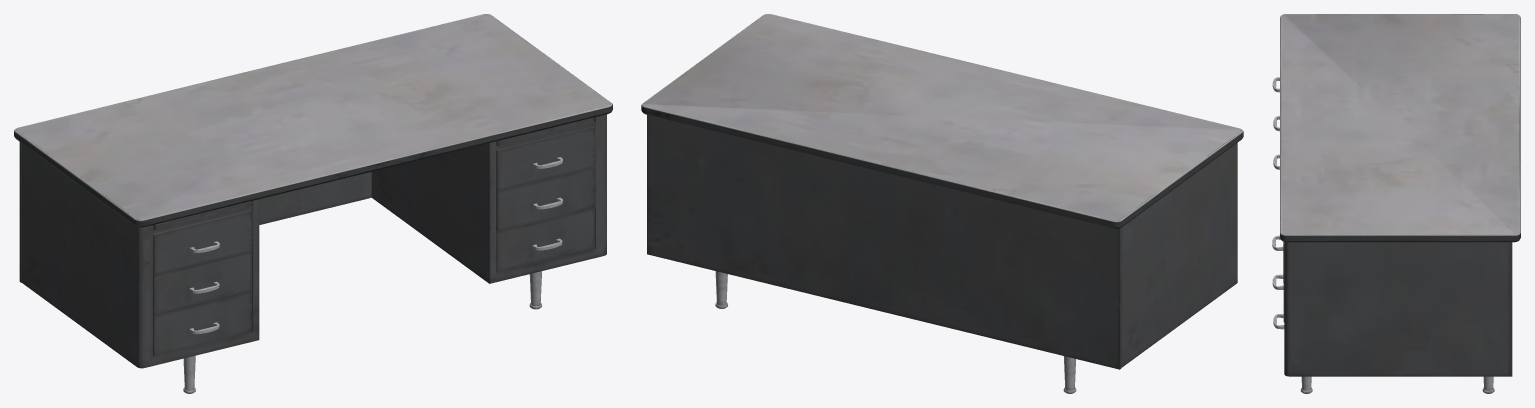
The model's file is office-desk-metal.glb.
3 renders of one model, left to right at view 1: azimuth 30°, elevation 25°; view 2: azimuth 150°, elevation 25°; view 3: azimuth 270°, elevation 25°, orthographic. The views are drawn at different scales.
Parts seen in each view (by area): view 1: metal_office_desk_drawer_06; view 2: metal_office_desk_drawer_06; view 3: metal_office_desk_drawer_06.
Part boxes in pixels (left/top/right/bottom): metal_office_desk_drawer_06: left=14, top=14, right=612, bottom=393; metal_office_desk_drawer_06: left=641, top=14, right=1243, bottom=393; metal_office_desk_drawer_06: left=1272, top=14, right=1520, bottom=393.
Size of the model in its own units: 2 by 0.7874 by 0.9471.
Materials: 1 (1 with a texture image).
